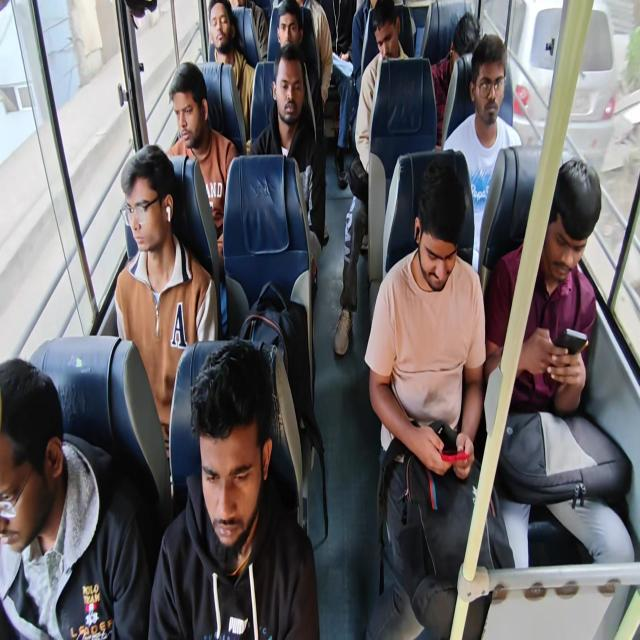person: (186, 368, 263, 530), (0, 383, 58, 559), (407, 186, 478, 328), (536, 150, 590, 288), (124, 163, 161, 250), (170, 72, 211, 149), (274, 54, 311, 131), (476, 55, 511, 122), (448, 11, 478, 71), (368, 20, 398, 68), (206, 5, 235, 52), (277, 7, 306, 51)
